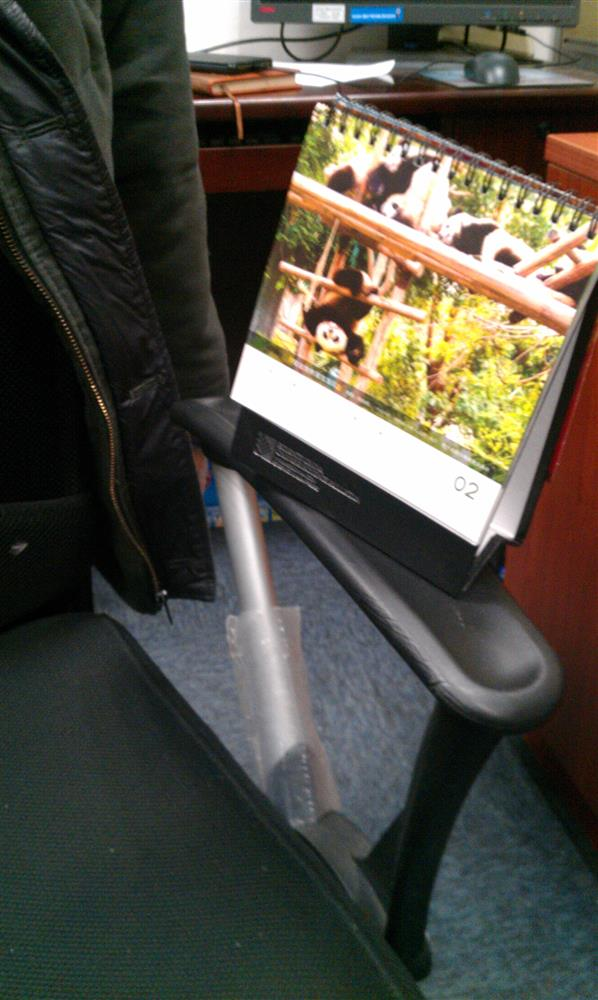panda_calendar: (219, 89, 591, 597)
